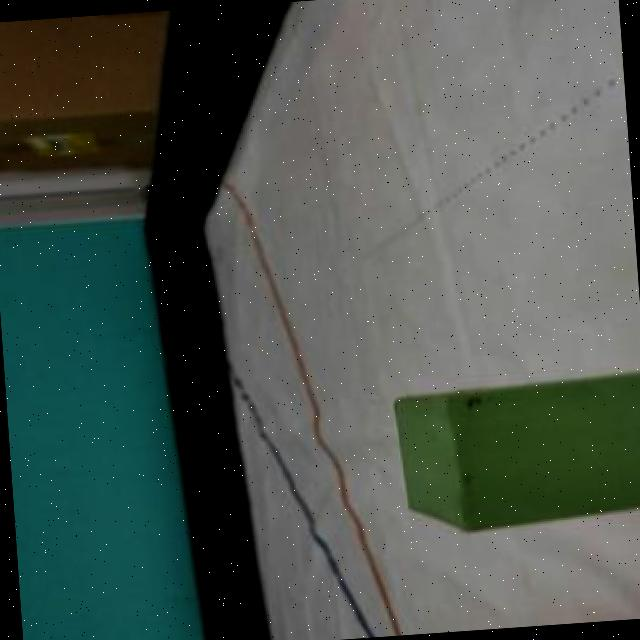greenbox: (384, 371, 640, 538)
